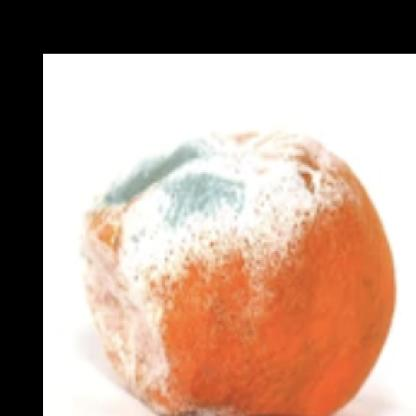rotten: (80, 128, 397, 416)
